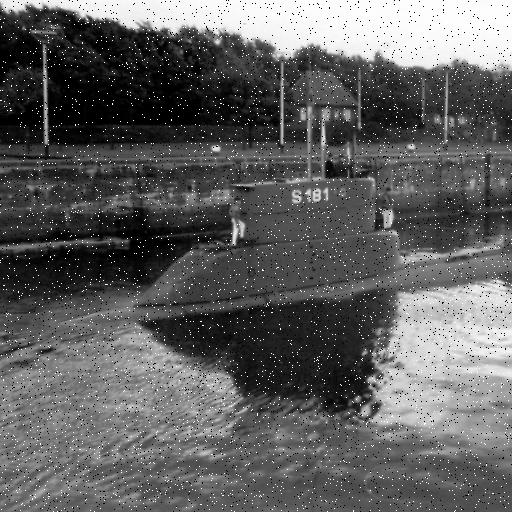submarine: (68, 177, 512, 325)
